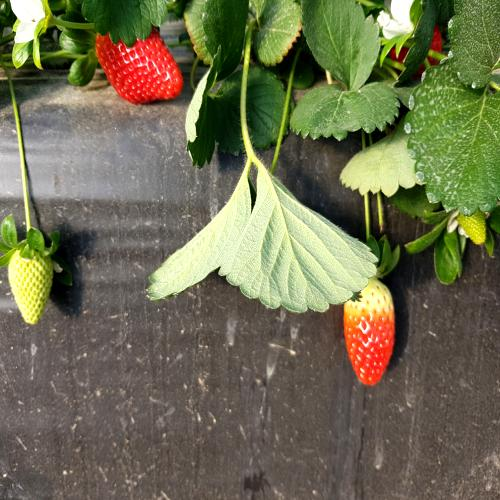partially-ripe: (337, 266, 400, 391)
ripe: (89, 27, 189, 113)
unripe: (8, 236, 54, 332)
